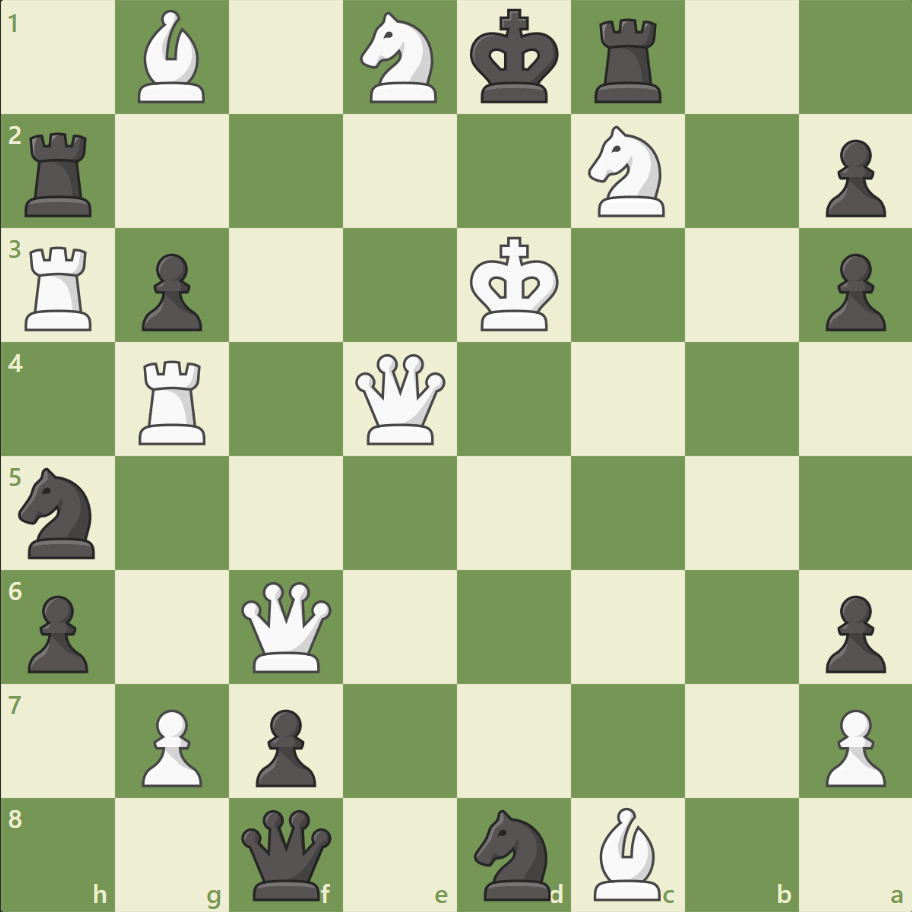B: (585, 801, 669, 904), (131, 6, 215, 109)
K: (465, 231, 565, 339)
N: (351, 7, 449, 110), (579, 121, 676, 223)
P: (133, 700, 208, 791), (815, 700, 889, 791)
Q: (237, 576, 336, 676), (351, 349, 450, 449)
R: (19, 239, 102, 336), (133, 352, 215, 449)
k: (465, 4, 565, 112)
n: (11, 461, 108, 564), (465, 802, 562, 904)
p: (247, 700, 322, 791), (20, 586, 95, 677), (133, 246, 208, 337), (815, 586, 889, 677), (815, 246, 889, 337), (815, 132, 889, 223)
q: (237, 804, 336, 903)
r: (19, 125, 102, 222), (587, 12, 670, 109)
